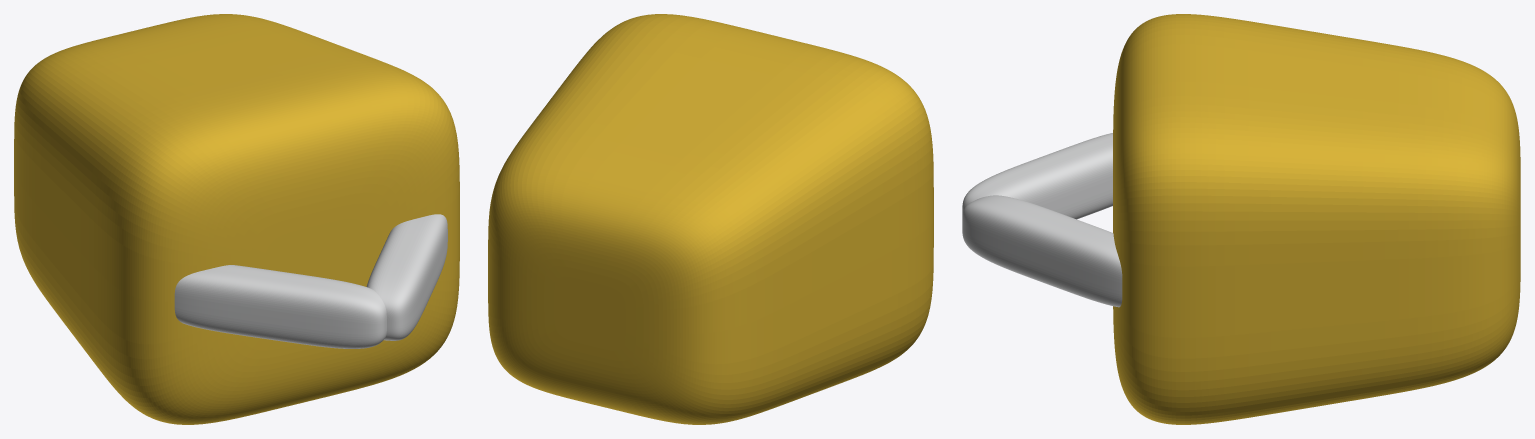
Rendered from red_bucket_sq.glb.
3 views of the same model, side by side, from view 1: azimuth 30°, elevation 25°; view 2: azimuth 150°, elevation 25°; view 3: azimuth 270°, elevation 25° (orthographic). The views are drawn at different scales.
Visible parts, largest first — view 1: superquadric_0, superquadric_1, superquadric_2; view 2: superquadric_0; view 3: superquadric_0, superquadric_2, superquadric_1.
Part boxes in pixels (bbox=[...]): superquadric_0: bbox=[14, 14, 459, 424]; superquadric_1: bbox=[174, 265, 386, 348]; superquadric_2: bbox=[366, 214, 447, 340]; superquadric_0: bbox=[488, 14, 933, 424]; superquadric_0: bbox=[1113, 14, 1520, 424]; superquadric_2: bbox=[962, 195, 1122, 307]; superquadric_1: bbox=[962, 133, 1112, 219].
Bounding box in the file's own units: 0.7014 × 0.6012 × 1.
